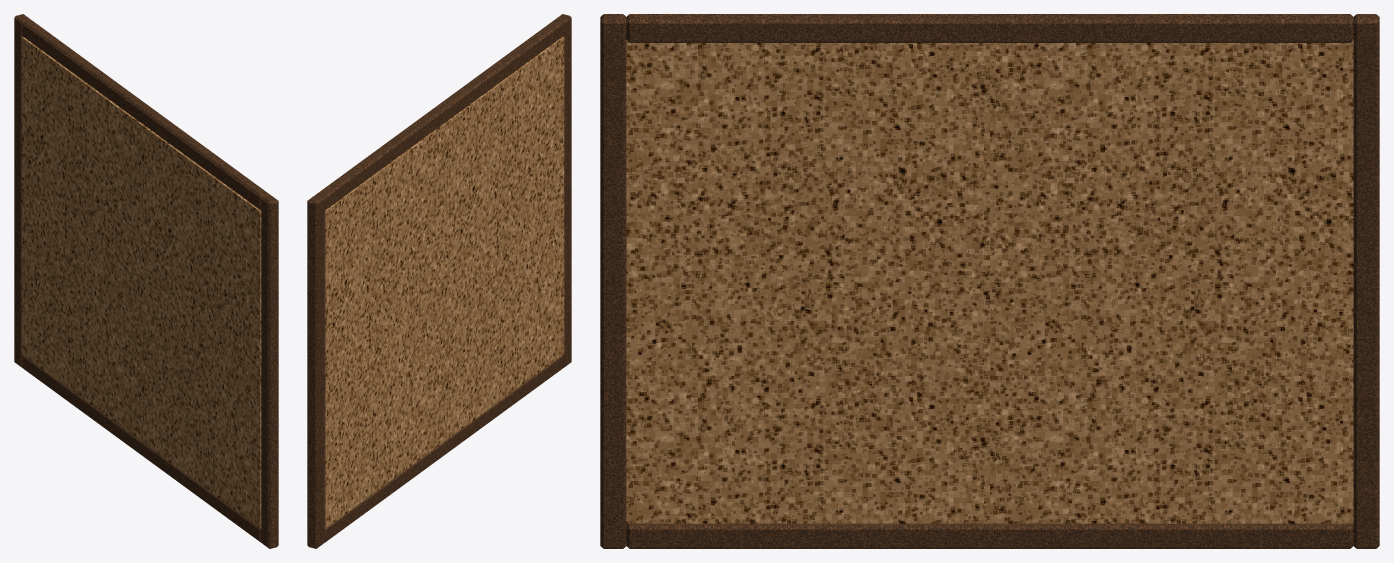
Rendered from CorkBoard.gltf.
3 views of the same model, side by side, from view 1: azimuth 30°, elevation 25°; view 2: azimuth 150°, elevation 25°; view 3: azimuth 270°, elevation 25° (orthographic). The views are drawn at different scales.
Parts seen in each view (by area): view 1: CorkBoard; view 2: CorkBoard; view 3: CorkBoard.
Boxes of the visible parts, bbox=[...] form: CorkBoard: bbox=[14, 14, 278, 548]; CorkBoard: bbox=[307, 14, 571, 548]; CorkBoard: bbox=[600, 14, 1379, 548].
Bounding box in the file's own units: 0.03 × 0.9 × 1.2.
Materials: 2 (2 with a texture image).
